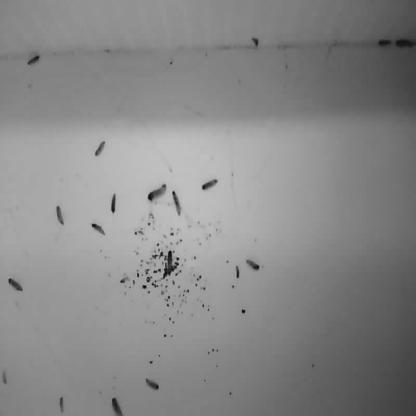PtecticusTenebrifer: (148, 184, 167, 201), (172, 191, 182, 217), (8, 276, 23, 293), (111, 395, 123, 416), (202, 177, 218, 192), (244, 257, 260, 272), (94, 140, 106, 158), (145, 378, 160, 392), (56, 205, 65, 227), (92, 223, 106, 236), (27, 55, 41, 67), (58, 396, 66, 413), (111, 193, 117, 215), (235, 266, 240, 280)
